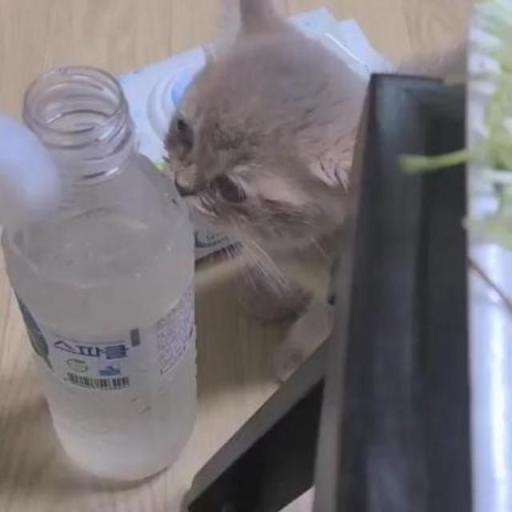Coca: (1, 54, 210, 496)
